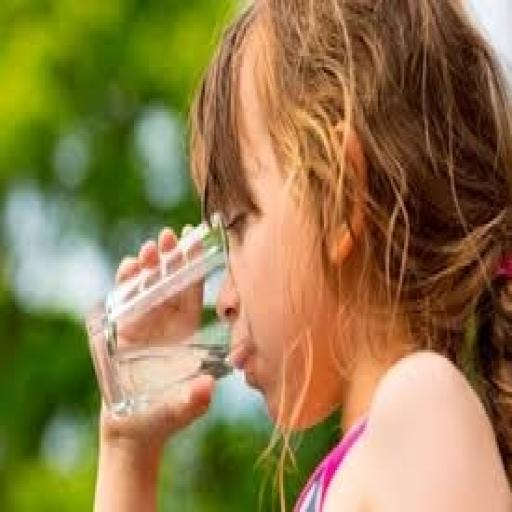drinking: (84, 215, 236, 417)
